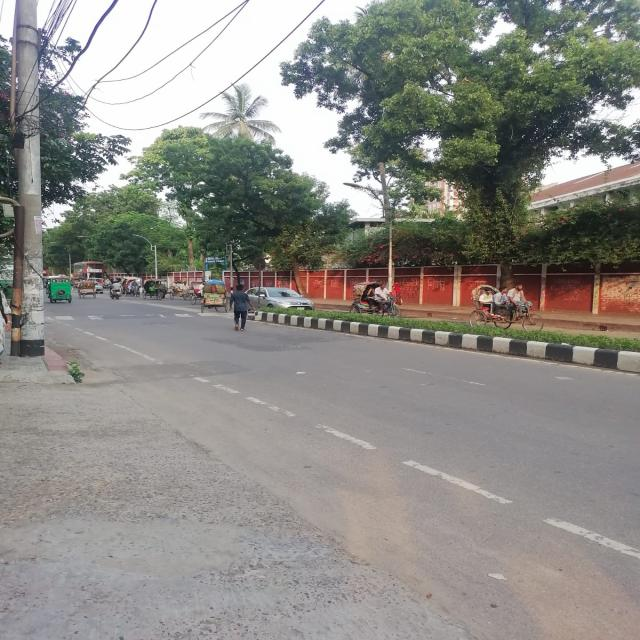person: (230, 284, 254, 331)
